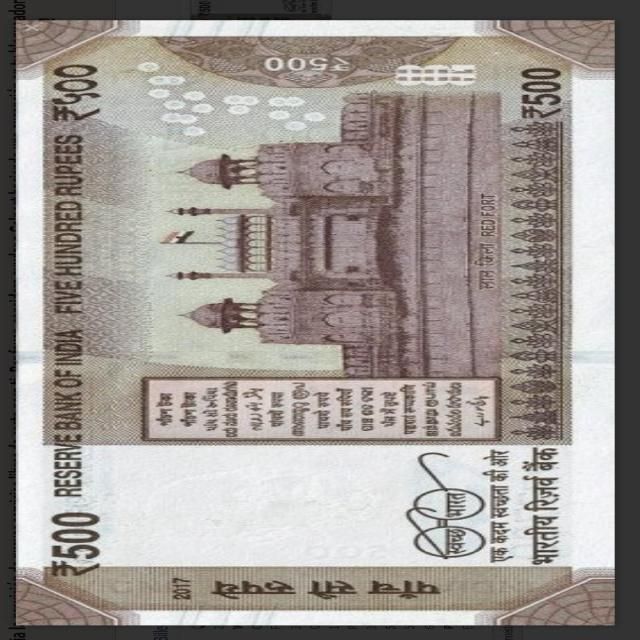500IndianRupees: (25, 22, 612, 628)
